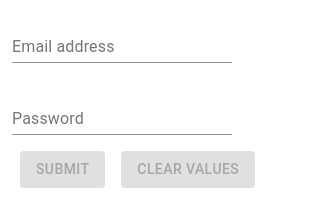
Test: Login Form › Buttons should not be disabled if any changes
Type "test" into the field labelled "Email address".
click(122, 47); type("test")  # box top-left (12, 31), bottom-right (232, 63)
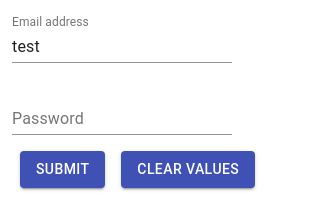
Expected: the button "Submit" is enabled, top-left (20, 151), bottom-right (105, 188)
Expected: the button "Clear Values" is enabled, top-left (121, 151), bottom-right (255, 188)
